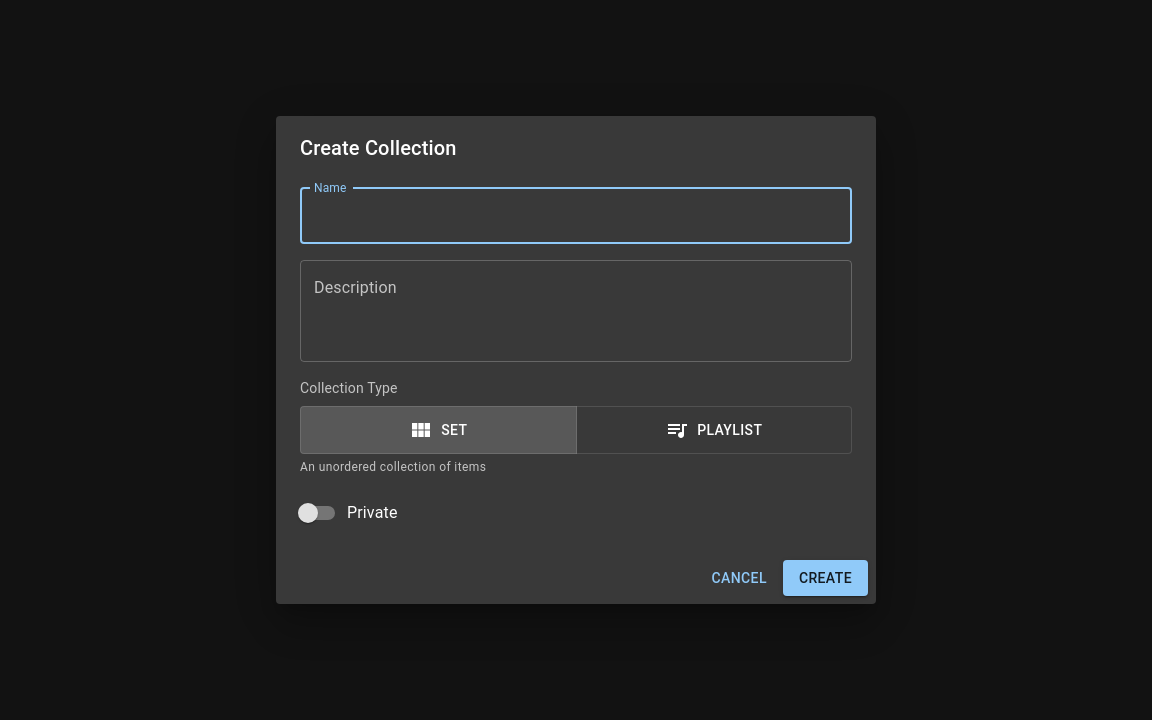
Scenario: CreateCollectionDialog › public/private label › shows public label when toggle is on
What coordinates should you click on to do the following:
click the switch
I would click on:
 (348, 513)
Its box is [298,503,398,523].
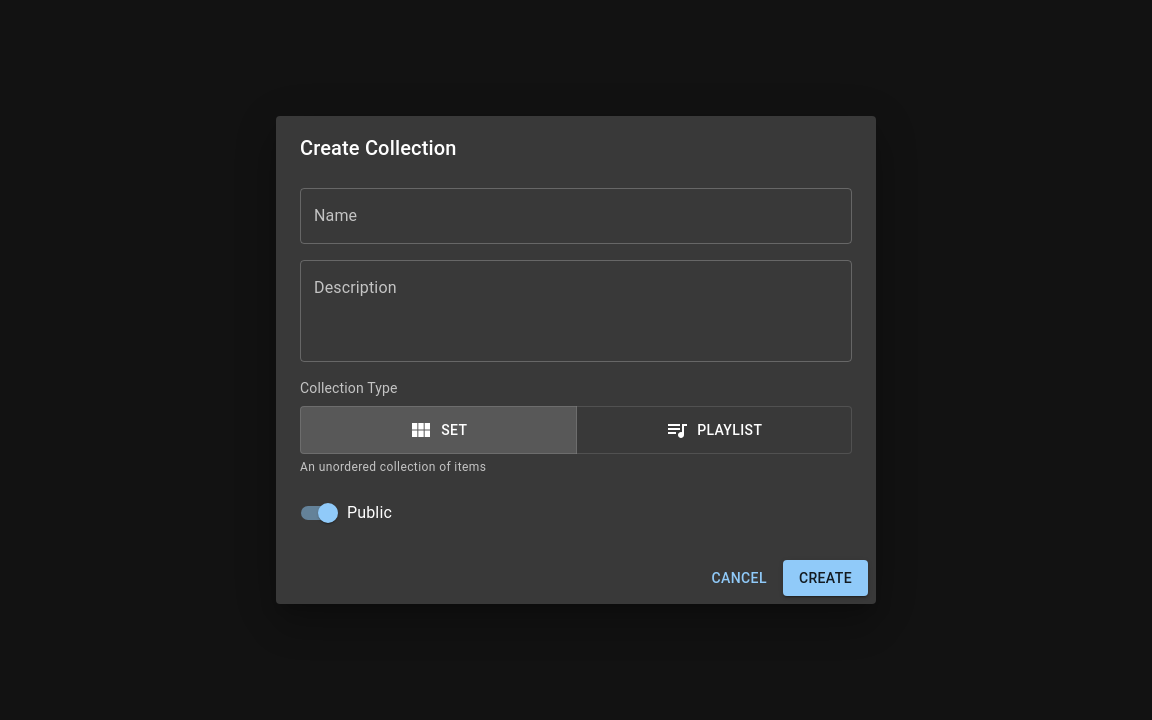
Now the text "Public" is shown, box [347,501,392,525]
